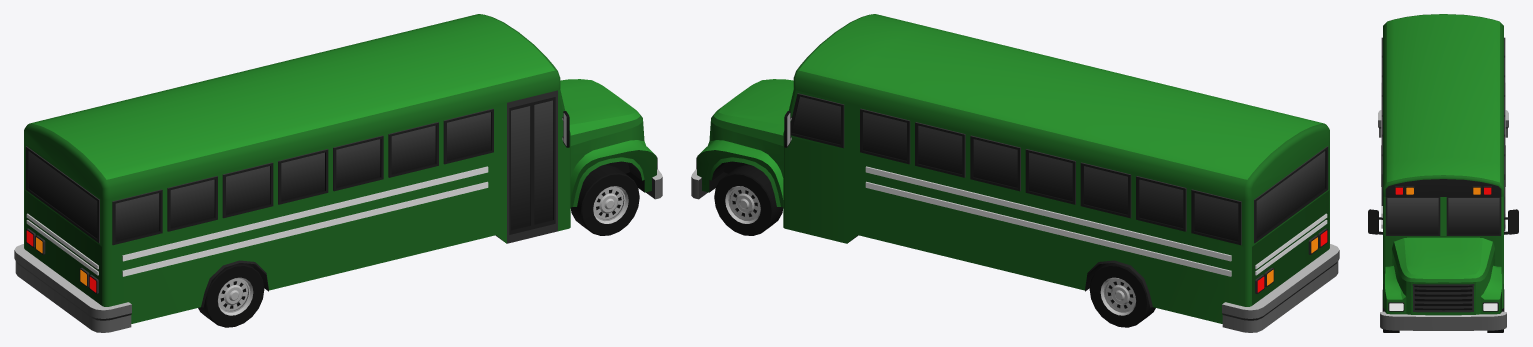
Rendered from Truck_018.glb.
3 renders of one model, left to right at view 1: azimuth 30°, elevation 25°; view 2: azimuth 150°, elevation 25°; view 3: azimuth 270°, elevation 25°, orthographic. The views are drawn at different scales.
Visible parts, largest first — view 1: Truck_018, wheel_1_Truck_018_Wheel_1R, wheel_3_Truck_018_Wheel_2R; view 2: Truck_018, wheel_0_Truck_018_Wheel_1L, wheel_2_Truck_018_Wheel_2L; view 3: Truck_018.
Part boxes in pixels (left/top/right/bottom): Truck_018: left=14, top=14, right=662, bottom=332; wheel_1_Truck_018_Wheel_1R: left=570, top=165, right=639, bottom=235; wheel_3_Truck_018_Wheel_2R: left=198, top=263, right=264, bottom=327; Truck_018: left=691, top=14, right=1339, bottom=332; wheel_0_Truck_018_Wheel_1L: left=714, top=165, right=783, bottom=235; wheel_2_Truck_018_Wheel_2L: left=1089, top=263, right=1155, bottom=327; Truck_018: left=1368, top=14, right=1518, bottom=330.
Bounding box in the file's own units: 7.92 × 2.47 × 2.46.
3 materials, 3 textured.
